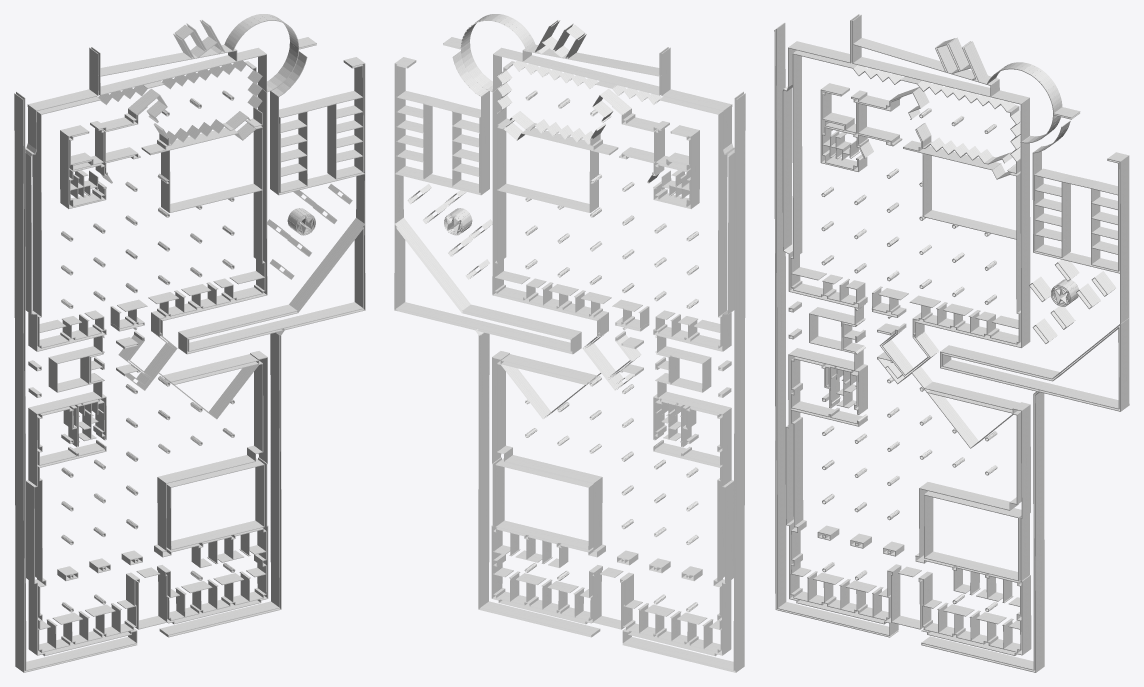
The model's file is wall_1.obj.
The picture shows the model from 3 angles, left to right: view 1: azimuth 30°, elevation 25°; view 2: azimuth 150°, elevation 25°; view 3: azimuth 330°, elevation 25°; orthographic projection.
Visible parts, largest first — view 1: walls; view 2: walls; view 3: walls.
Boxes of the visible parts, x1=… form: walls: x1=14, y1=14, x2=365, y2=672; walls: x1=394, y1=14, x2=745, y2=672; walls: x1=774, y1=14, x2=1129, y2=672.
Bounding box in the file's own units: 57.14 × 95.92 × 2.5.
